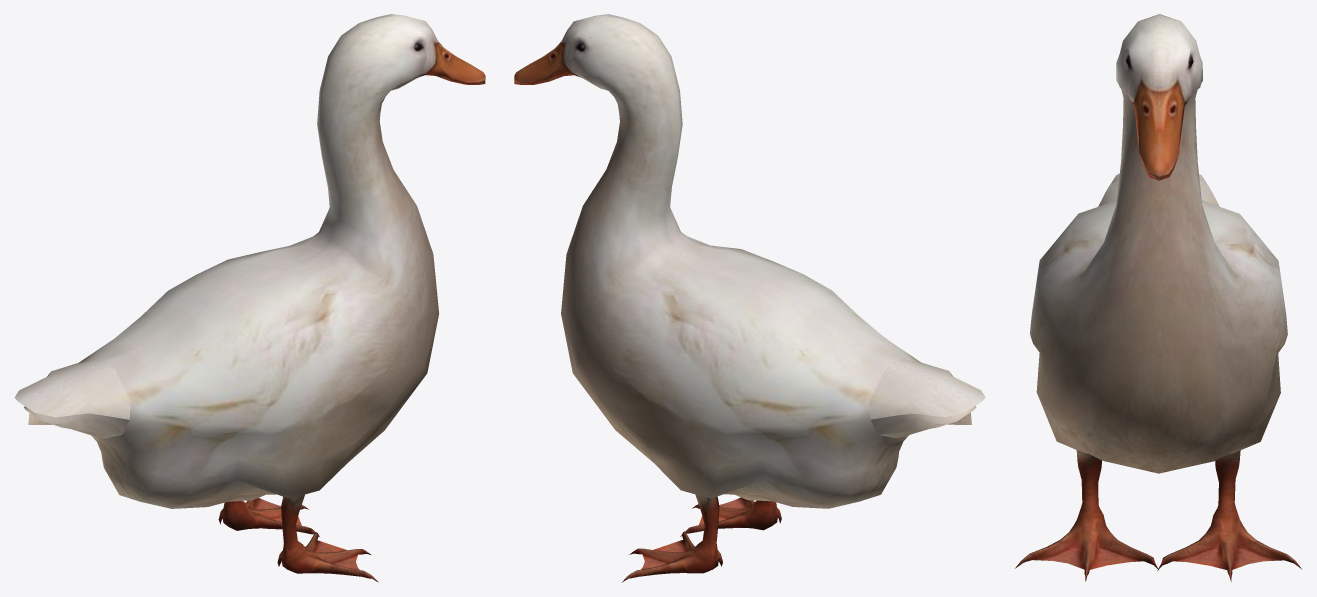
File: duck.fbx
3 renders of one model, left to right at view 1: azimuth 30°, elevation 25°; view 2: azimuth 150°, elevation 25°; view 3: azimuth 270°, elevation 25°, orthographic. The views are drawn at different scales.
Parts seen in each view (by area): view 1: vit; view 2: vit; view 3: vit.
Part boxes in pixels (box(x1,y1,x2,y2)): vit: box(14, 14, 485, 582); vit: box(514, 14, 985, 582); vit: box(1015, 14, 1301, 581).
Bounding box in the file's own units: 67.01 × 68.96 × 30.75.
Materials: 1 (1 with a texture image).
